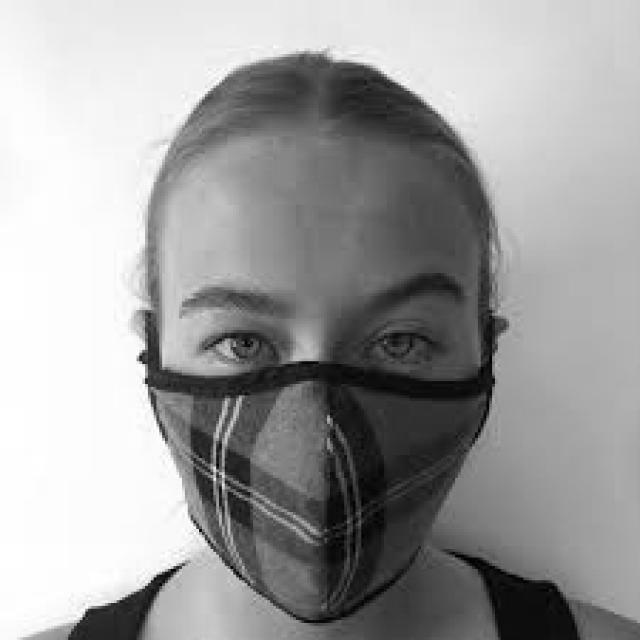fake: (143, 364, 497, 625)
real: (154, 135, 485, 622)
